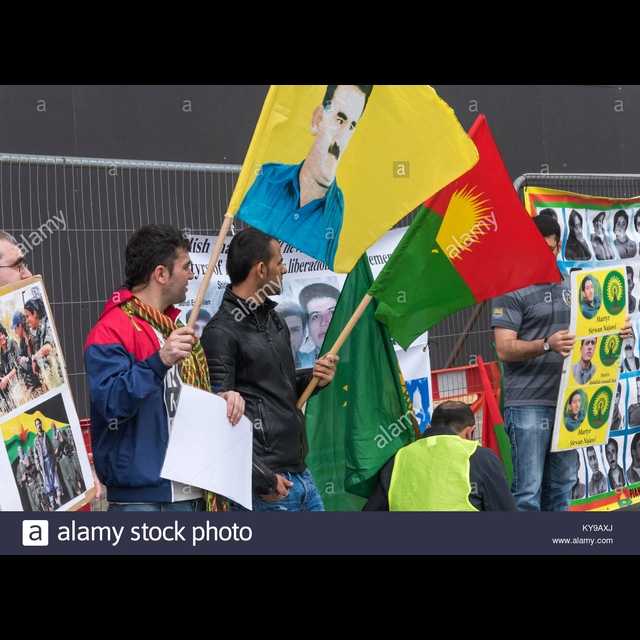APO: (301, 85, 380, 199)
